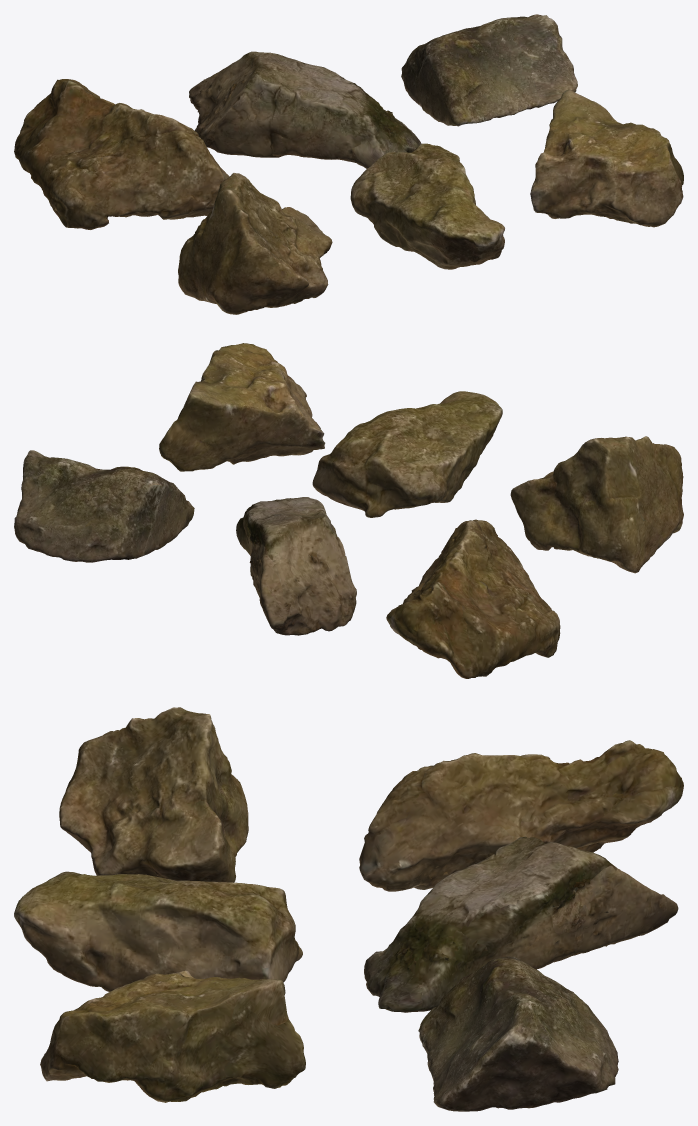
Rendered from rocks.glb.
The picture shows the model from 3 angles, top to bottom: view 1: azimuth 30°, elevation 25°; view 2: azimuth 150°, elevation 25°; view 3: azimuth 270°, elevation 25°; orthographic projection. The views are drawn at different scales.
Parts seen in each view (by area): view 1: rock_moss_set_01_rock01, rock_moss_set_01_rock02, rock_moss_set_01_rock06, rock_moss_set_01_rock04, rock_moss_set_01_rock03, rock_moss_set_01_rock05; view 2: rock_moss_set_01_rock04, rock_moss_set_01_rock01, rock_moss_set_01_rock05, rock_moss_set_01_rock03, rock_moss_set_01_rock06, rock_moss_set_01_rock02; view 3: rock_moss_set_01_rock01, rock_moss_set_01_rock02, rock_moss_set_01_rock05, rock_moss_set_01_rock04, rock_moss_set_01_rock06, rock_moss_set_01_rock03.
Part boxes in pixels (x1,y1,x2,y2): rock_moss_set_01_rock01: [14, 79, 229, 229]; rock_moss_set_01_rock02: [189, 51, 421, 168]; rock_moss_set_01_rock06: [530, 89, 683, 227]; rock_moss_set_01_rock04: [178, 173, 332, 314]; rock_moss_set_01_rock03: [401, 14, 577, 126]; rock_moss_set_01_rock05: [350, 143, 504, 269]; rock_moss_set_01_rock04: [510, 436, 683, 573]; rock_moss_set_01_rock01: [386, 519, 560, 678]; rock_moss_set_01_rock05: [312, 391, 502, 517]; rock_moss_set_01_rock03: [14, 450, 194, 562]; rock_moss_set_01_rock06: [159, 343, 325, 471]; rock_moss_set_01_rock02: [236, 497, 356, 635]; rock_moss_set_01_rock01: [359, 740, 683, 891]; rock_moss_set_01_rock02: [364, 836, 678, 1012]; rock_moss_set_01_rock05: [14, 871, 302, 991]; rock_moss_set_01_rock04: [59, 707, 248, 882]; rock_moss_set_01_rock06: [40, 970, 305, 1102]; rock_moss_set_01_rock03: [418, 956, 618, 1111].
Bounding box in the file's own units: 8 × 1.77 × 6.95.
Materials: 1 (1 with a texture image).
